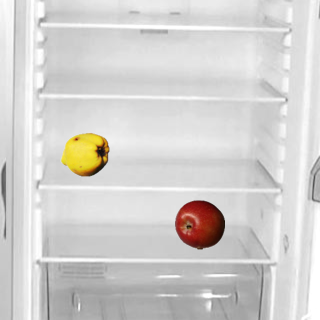Apple Braeburn: (174, 199, 224, 249)
Quince: (59, 129, 109, 179)
